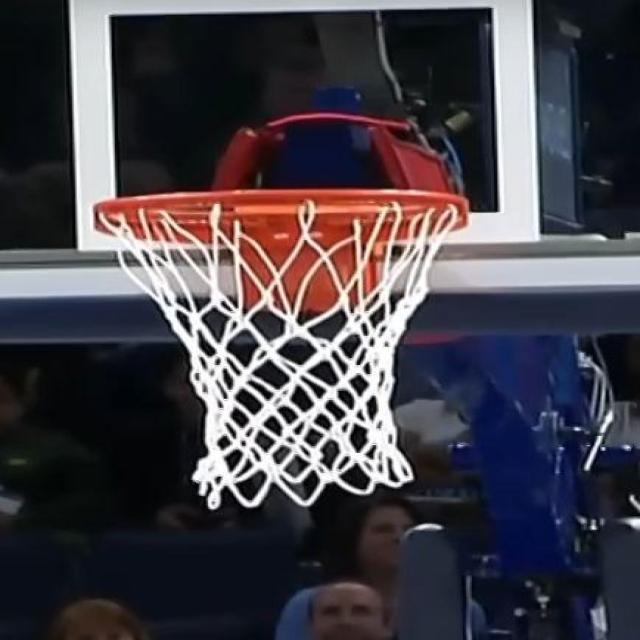hoop: (90, 165, 497, 503)
